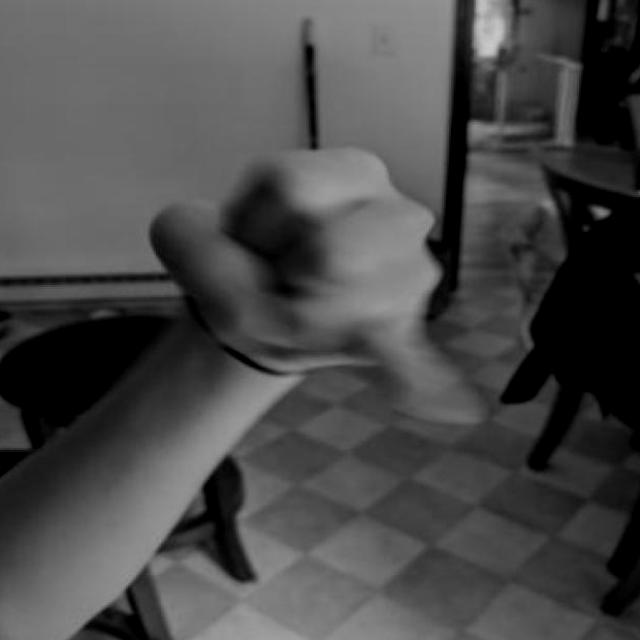J: (138, 134, 502, 440)
